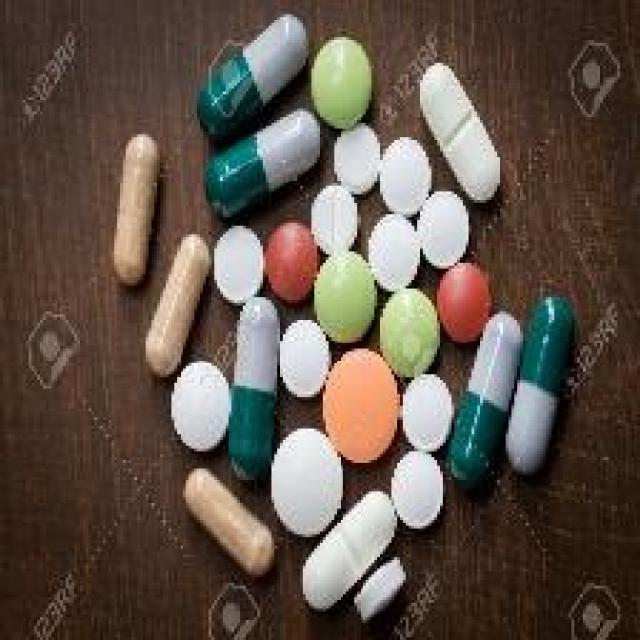Medicine: (118, 0, 594, 640)
